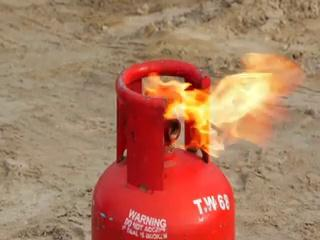Fire: (121, 58, 317, 184)
